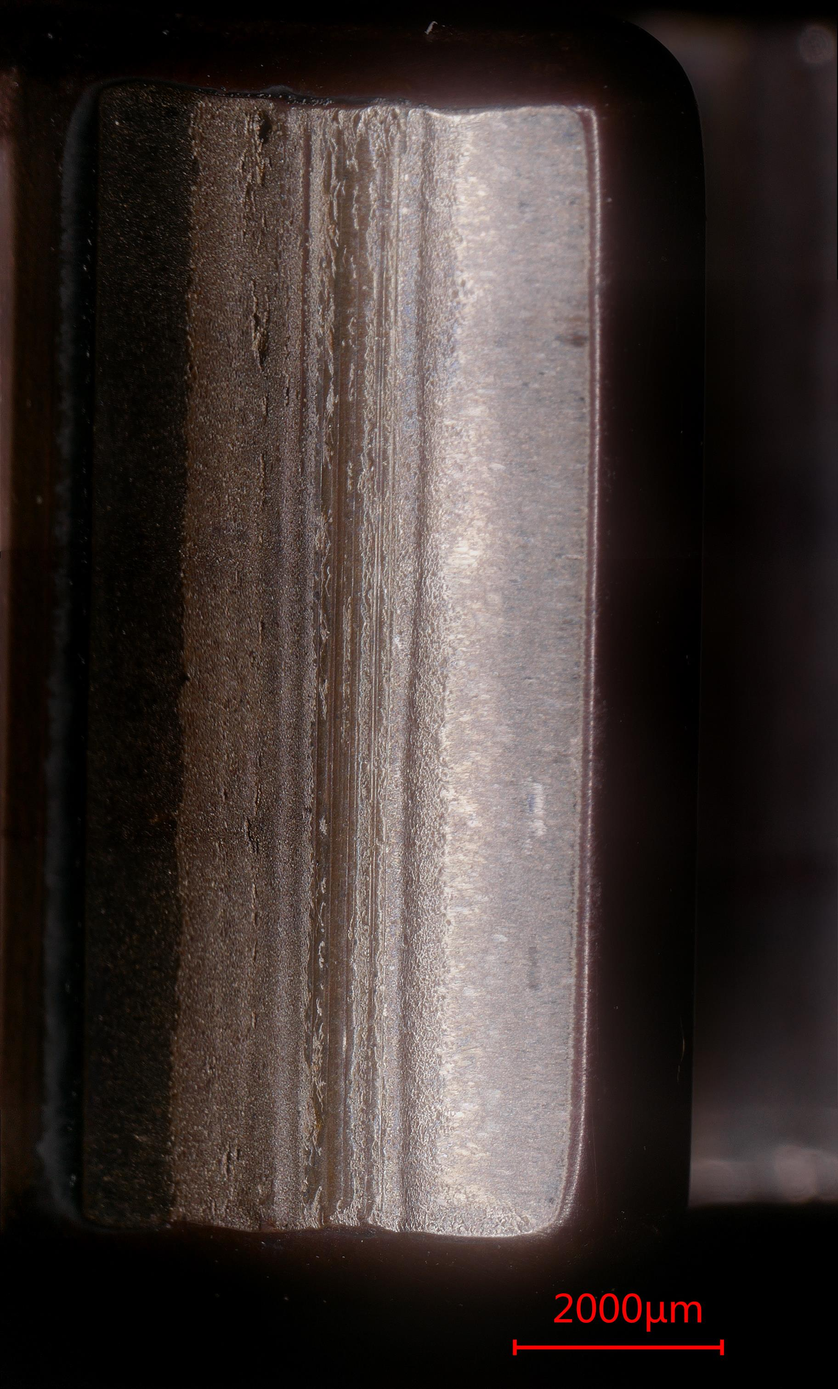Abrasion: (98, 120, 590, 1226)
